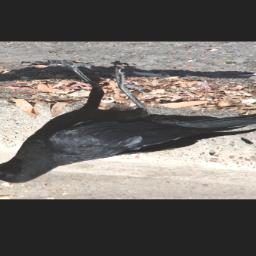Crow: (0, 61, 256, 186)
